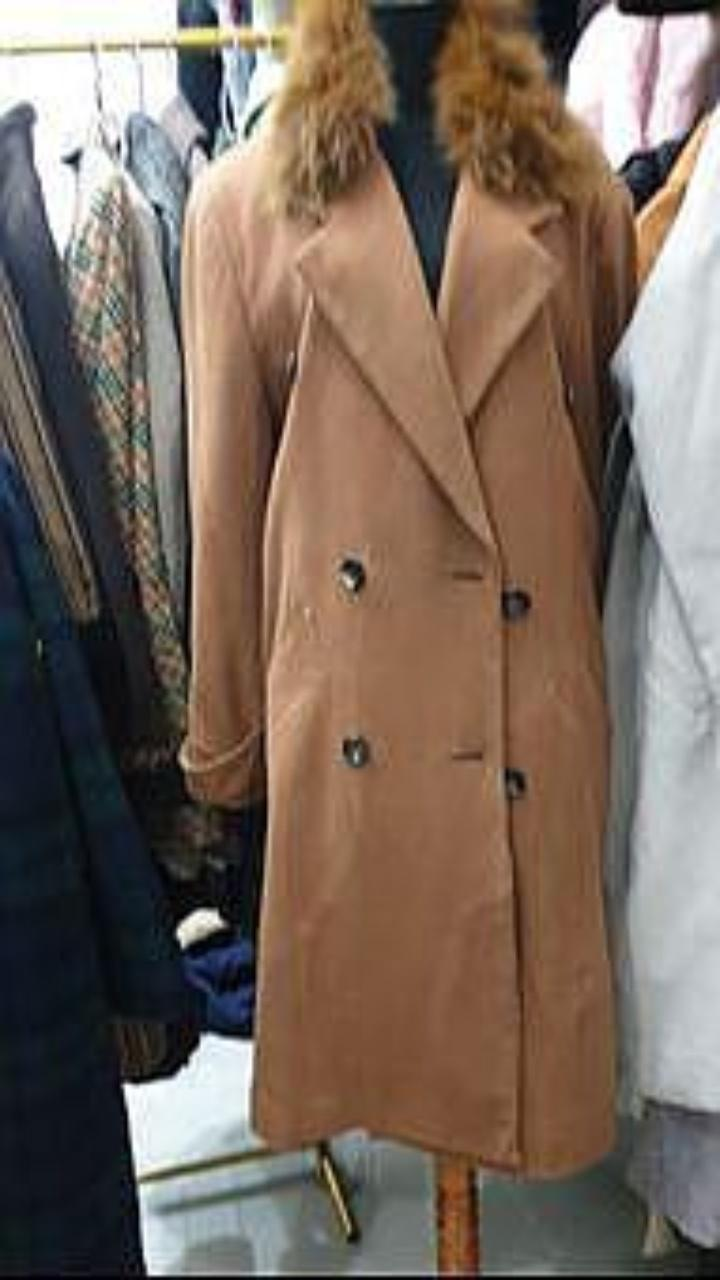Coat: (183, 0, 634, 1174), (0, 453, 195, 1275), (615, 113, 719, 1111), (0, 105, 160, 753), (568, 4, 719, 168)
